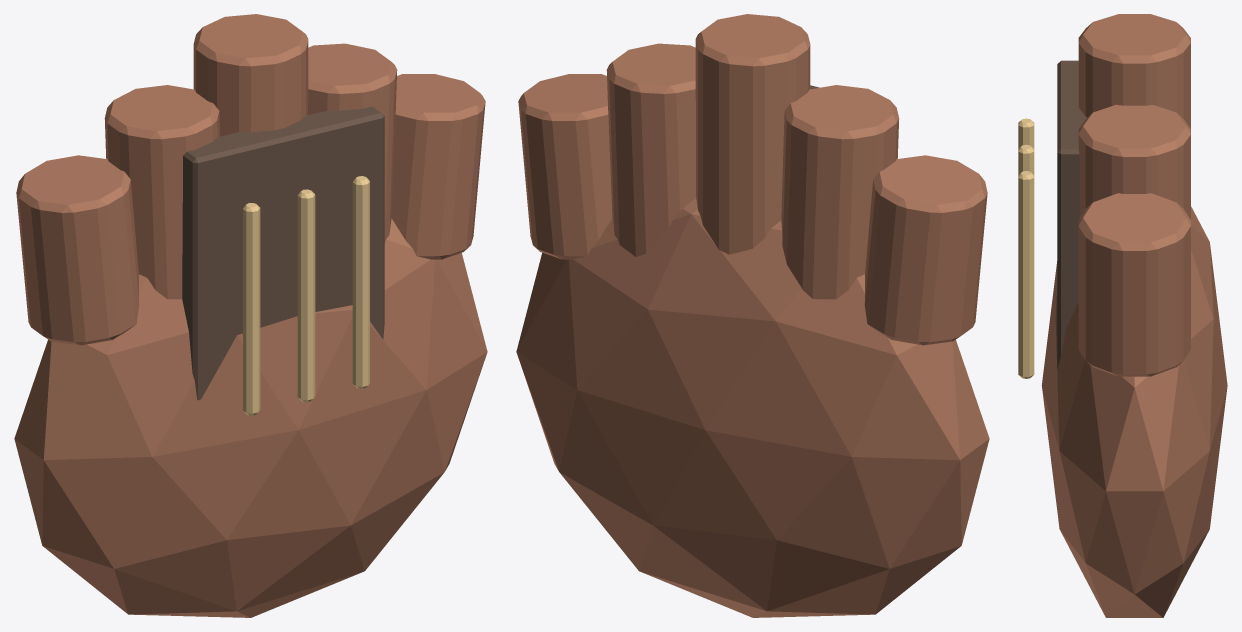
Rendered from equipment-catcher-mitt.glb.
3 views of the same model, side by side, from view 1: azimuth 30°, elevation 25°; view 2: azimuth 150°, elevation 25°; view 3: azimuth 270°, elevation 25° (orthographic). The views are drawn at different scales.
Visible parts, largest first — view 1: Mitt_Palm, Mitt_Web, Mitt_Finger_1, Mitt_Finger_5, Mitt_Finger_2, Mitt_Finger_3, Mitt_Finger_4, Mitt_Lace_+0.00, Mitt_Lace_-0.08, Mitt_Lace_+0.08; view 2: Mitt_Palm, Mitt_Finger_3, Mitt_Finger_1, Mitt_Finger_2, Mitt_Finger_4, Mitt_Finger_5; view 3: Mitt_Palm, Mitt_Finger_5, Mitt_Finger_3, Mitt_Finger_4, Mitt_Web, Mitt_Lace_+0.08, Mitt_Lace_+0.00, Mitt_Lace_-0.08.
Boxes of the visible parts, x1=… form: Mitt_Palm: x1=14, y1=219, x2=487, y2=617; Mitt_Web: x1=182, y1=106, x2=384, y2=400; Mitt_Finger_1: x1=16, y1=155, x2=139, y2=345; Mitt_Finger_5: x1=391, y1=74, x2=485, y2=259; Mitt_Finger_2: x1=104, y1=85, x2=220, y2=299; Mitt_Finger_3: x1=193, y1=14, x2=308, y2=136; Mitt_Finger_4: x1=308, y1=43, x2=397, y2=243; Mitt_Lace_+0.00: x1=297, y1=189, x2=315, y2=402; Mitt_Lace_-0.08: x1=243, y1=203, x2=260, y2=415; Mitt_Lace_+0.08: x1=352, y1=176, x2=369, y2=388; Mitt_Palm: x1=516, y1=198, x2=989, y2=617; Mitt_Finger_3: x1=695, y1=14, x2=810, y2=254; Mitt_Finger_1: x1=864, y1=155, x2=987, y2=345; Mitt_Finger_2: x1=781, y1=85, x2=899, y2=299; Mitt_Finger_4: x1=606, y1=43, x2=696, y2=256; Mitt_Finger_5: x1=518, y1=74, x2=612, y2=259; Mitt_Palm: x1=1041, y1=206, x2=1227, y2=617; Mitt_Finger_5: x1=1078, y1=193, x2=1190, y2=376; Mitt_Finger_3: x1=1078, y1=14, x2=1190, y2=128; Mitt_Finger_4: x1=1078, y1=104, x2=1190, y2=219; Mitt_Web: x1=1057, y1=60, x2=1086, y2=368; Mitt_Lace_+0.08: x1=1018, y1=171, x2=1034, y2=378; Mitt_Lace_+0.00: x1=1018, y1=144, x2=1034, y2=174; Mitt_Lace_-0.08: x1=1018, y1=118, x2=1034, y2=148.
Bounding box in the file's own units: 0.6589 × 0.81 × 0.2702.
